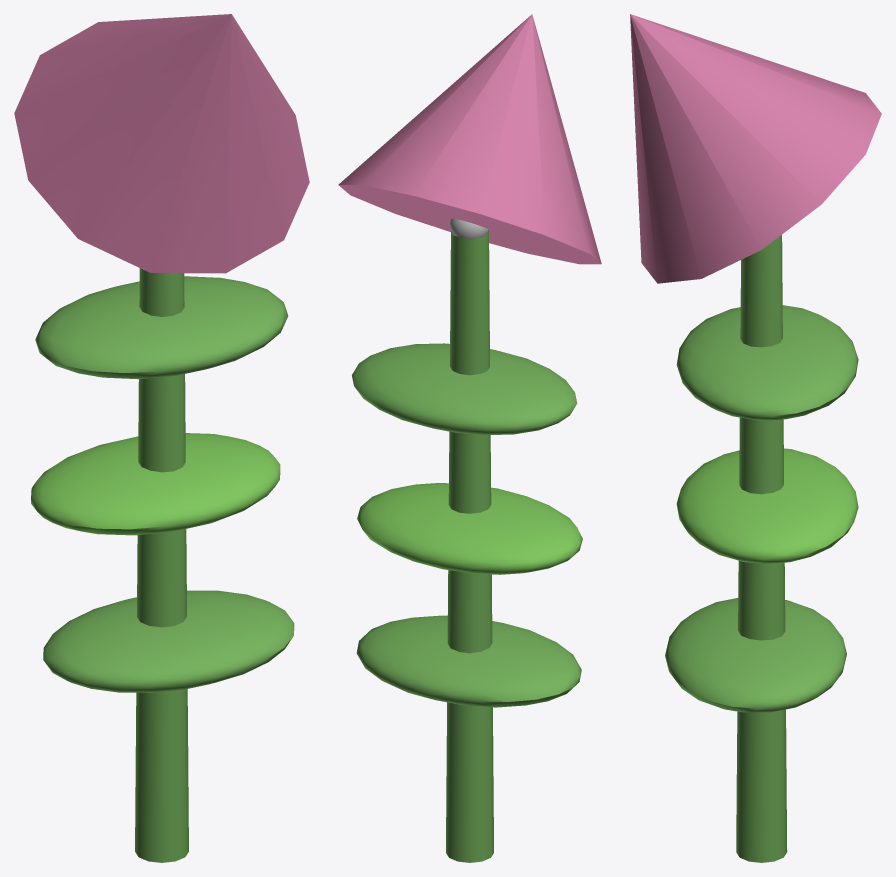
File: catharanthus-roseus.glb
The picture shows the model from 3 angles, left to right: view 1: azimuth 30°, elevation 25°; view 2: azimuth 150°, elevation 25°; view 3: azimuth 270°, elevation 25°; orthographic projection. The views are drawn at different scales.
Visible parts, largest first — view 1: trumpet, stem, leaf0, leaf2, leaf1; view 2: trumpet, stem, leaf2, leaf1, leaf0, head; view 3: trumpet, stem, leaf2, leaf0, leaf1.
Boxes of the visible parts, <box> form: trumpet: <box>14,14,309,273</box>; stem: <box>135,268,188,862</box>; leaf0: <box>43,590,294,692</box>; leaf2: <box>35,276,288,379</box>; leaf1: <box>31,433,280,535</box>; trumpet: <box>338,14,601,264</box>; stem: <box>446,230,493,862</box>; leaf2: <box>352,343,577,435</box>; leaf1: <box>357,483,582,574</box>; leaf0: <box>356,615,581,707</box>; head: <box>449,218,488,239</box>; trumpet: <box>630,14,881,283</box>; stem: <box>736,235,787,862</box>; leaf2: <box>676,305,858,420</box>; leaf0: <box>665,598,846,712</box>; leaf1: <box>676,448,858,563</box>.
Bounding box in the file's own units: 0.16 × 0.5078 × 0.1383.
